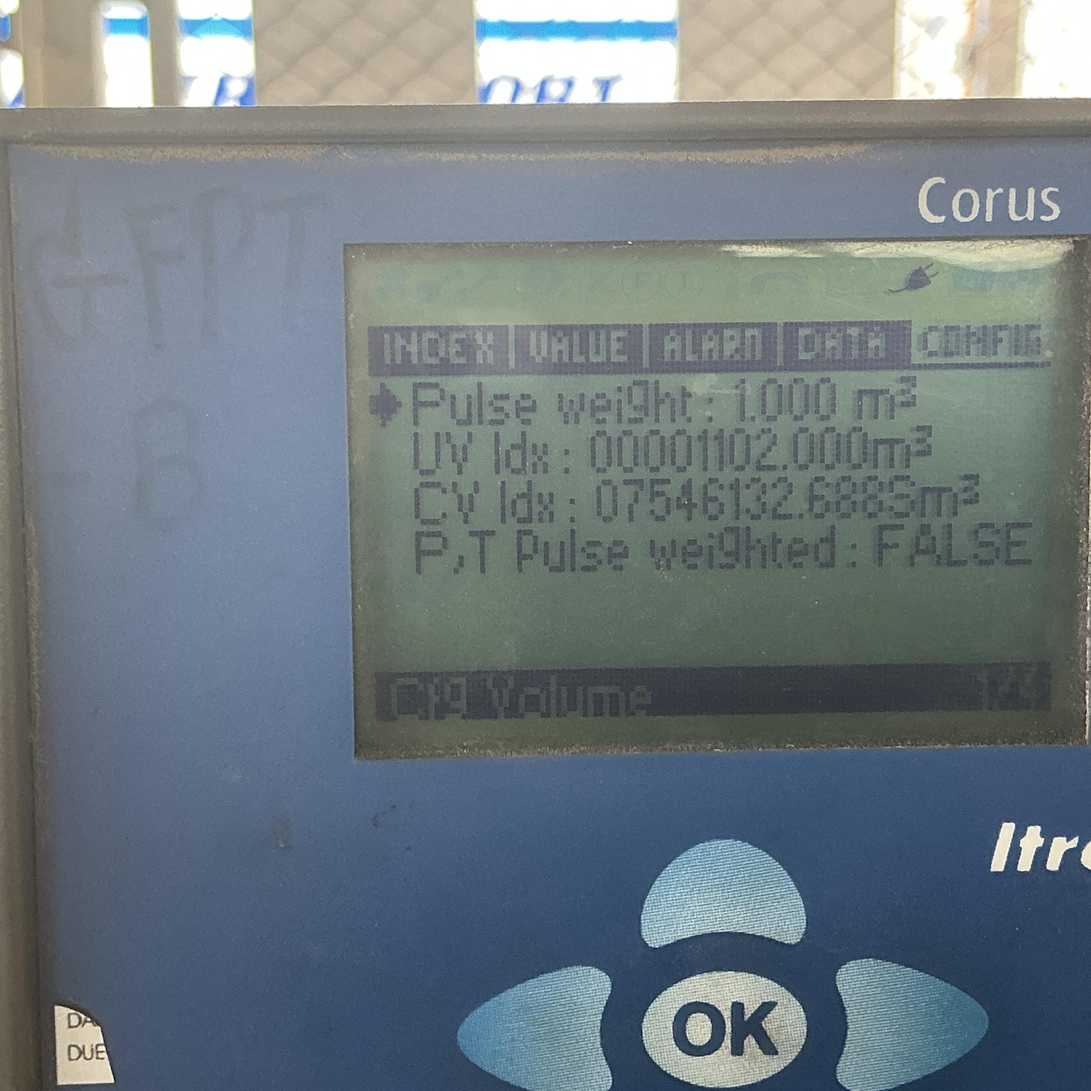digital_screen: (347, 233, 1091, 756)
